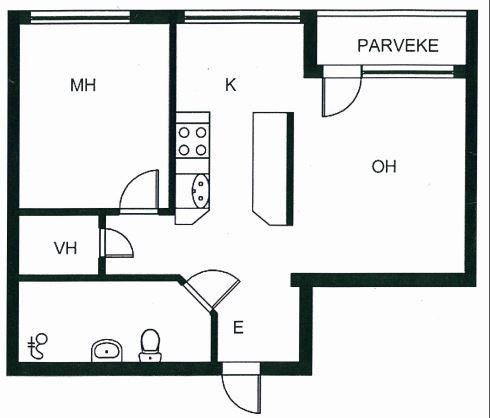bathroom: (18, 281, 213, 363)
door: (182, 265, 242, 317), (218, 359, 269, 414), (319, 62, 364, 117), (116, 167, 162, 216), (97, 226, 137, 260)
perimeter: (7, 8, 476, 377)
window: (23, 6, 136, 30), (178, 7, 305, 27), (358, 62, 459, 83)
